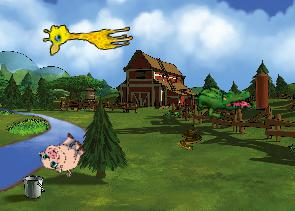crocodile: (187, 73, 255, 128)
giraffe: (41, 15, 134, 56)
pig: (35, 126, 91, 182)
